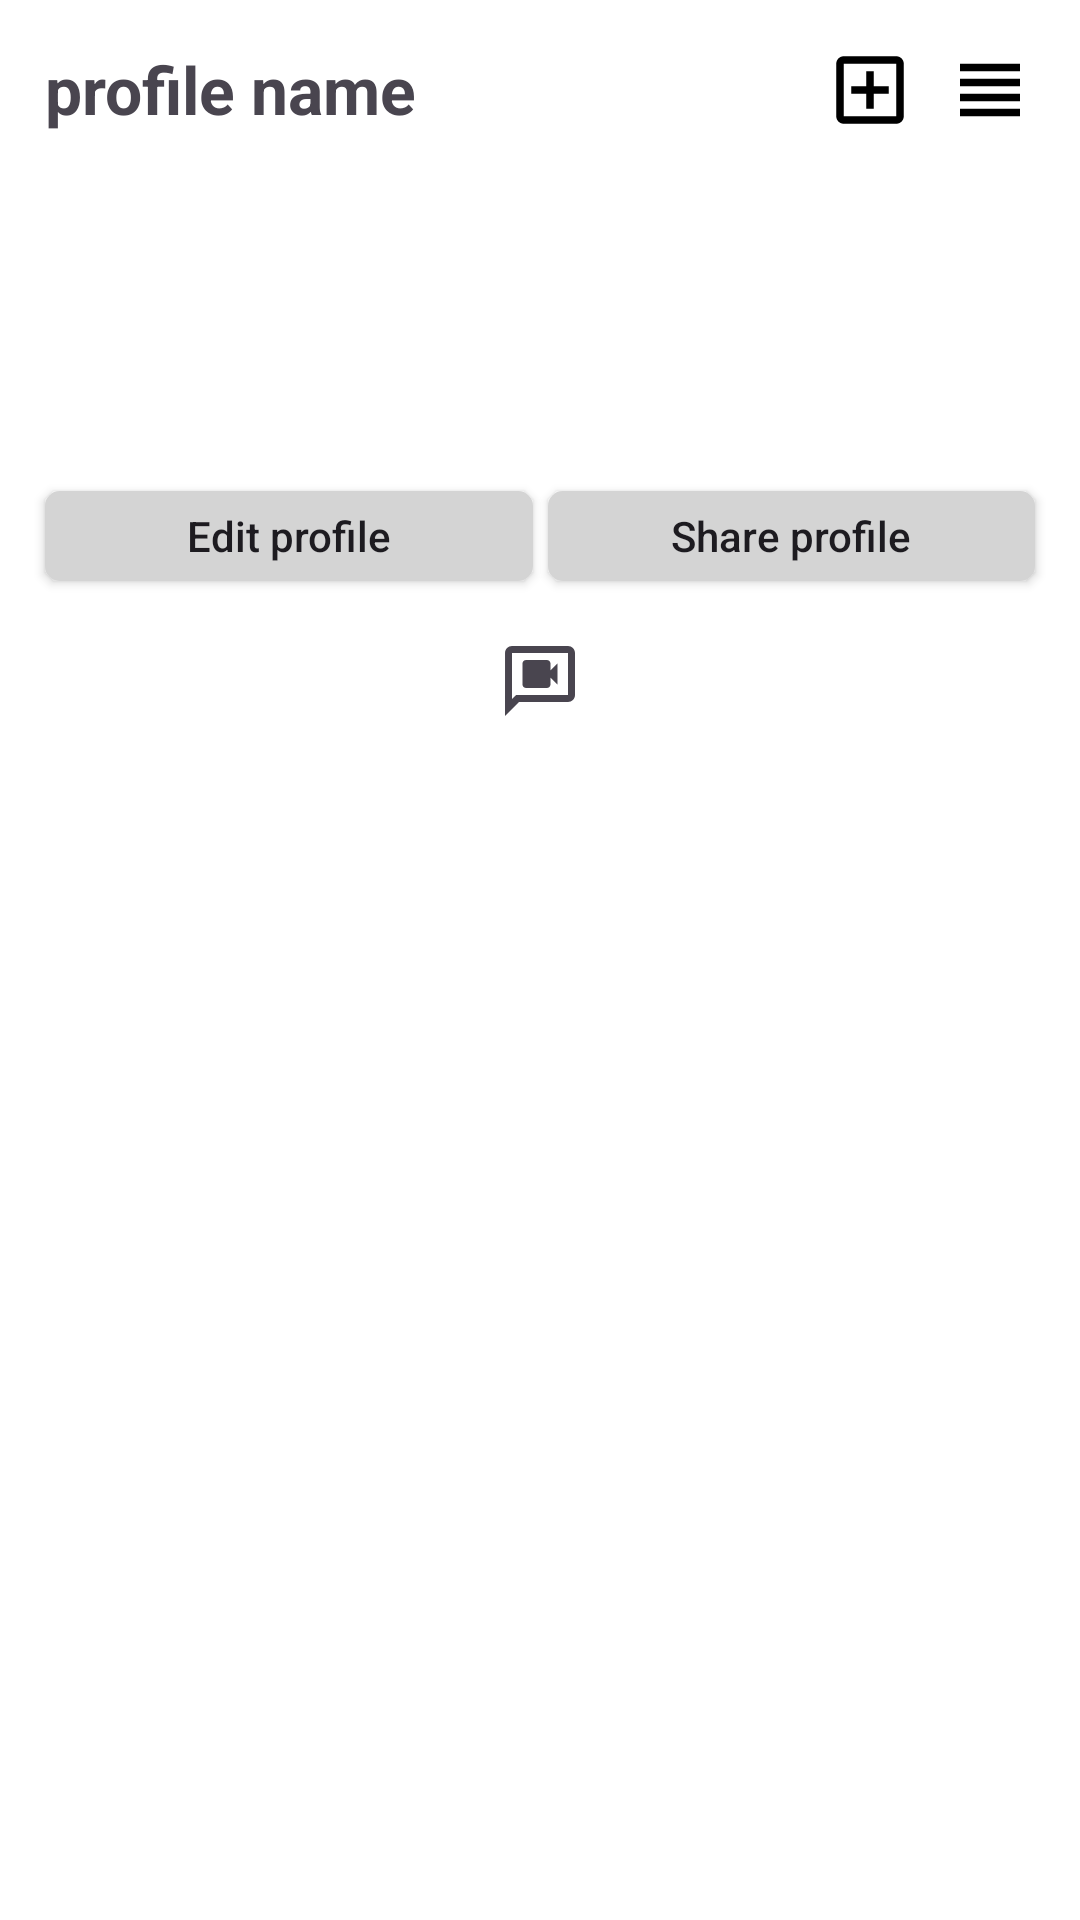

Icon click points for this 1080×1920 phone screenshot, format point (x, y):
add box: point (870, 90)
view setting: point (990, 90)
